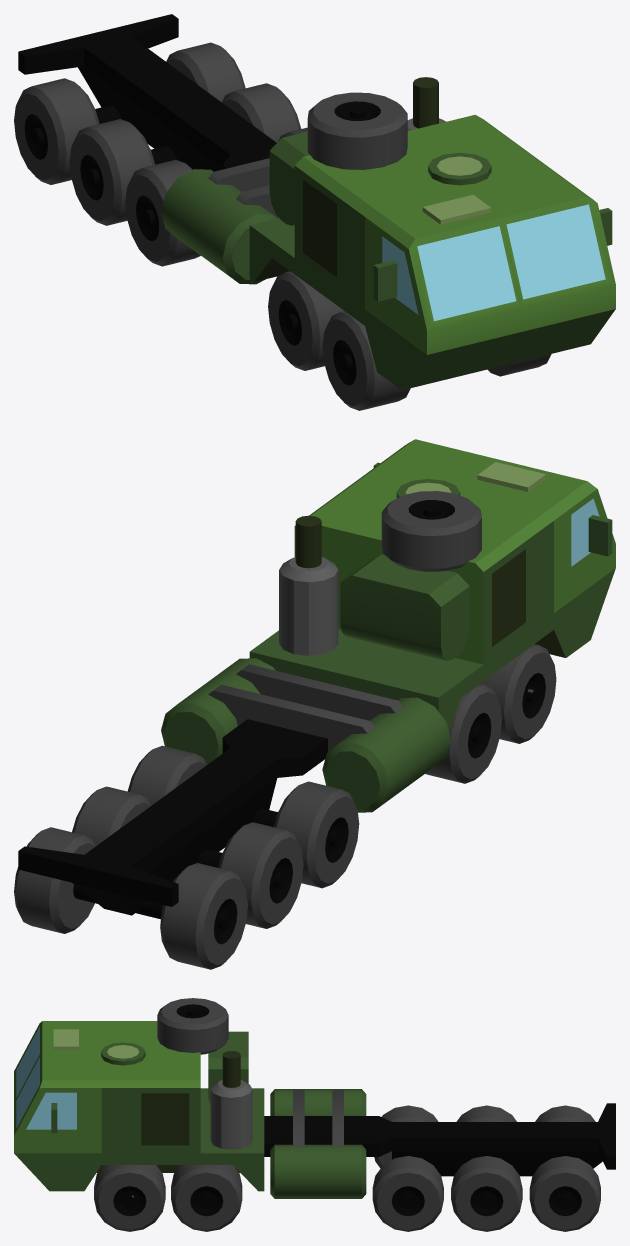
Rendered from Big Truck 2.fbx.
3 views of the same model, one above another, from view 1: azimuth 30°, elevation 25°; view 2: azimuth 150°, elevation 25°; view 3: azimuth 270°, elevation 25° (orthographic). The views are drawn at different scales.
Parts seen in each view (by area): view 1: Cube.499, Cylinder.579, Cube.504, Cylinder.578, Cylinder.582, Cylinder.576, Cylinder.577, Cube.502, Cube.503, Cylinder.575, Cylinder.581, Cube.500 (+1 smaller); view 2: Cube.499, Cylinder.579, Cube.504, Cylinder.578, Cube.502, Cube.503, Cylinder.582, Cylinder.581, Cylinder.576, Cylinder.577, Cube.501, Cube.500 (+1 smaller); view 3: Cube.499, Cylinder.579, Cube.504, Cylinder.578, Cylinder.577, Cylinder.576, Cylinder.582, Cylinder.581, Cube.503, Cube.502, Cylinder.575, Cube.501.
Boxes of the visible parts, <box> form: Cube.499: <box>249,114,615,390</box>; Cylinder.579: <box>14,42,307,266</box>; Cube.504: <box>18,14,276,171</box>; Cylinder.578: <box>161,169,276,284</box>; Cylinder.582: <box>307,92,407,169</box>; Cylinder.576: <box>322,311,551,410</box>; Cylinder.577: <box>268,271,343,370</box>; Cube.502: <box>269,131,309,225</box>; Cube.503: <box>208,158,278,218</box>; Cylinder.575: <box>428,152,491,185</box>; Cylinder.581: <box>407,77,445,130</box>; Cube.500: <box>373,208,612,301</box>; Cube.499: <box>249,439,615,731</box>; Cylinder.579: <box>14,745,359,969</box>; Cube.504: <box>18,719,327,915</box>; Cylinder.578: <box>161,658,450,812</box>; Cube.502: <box>340,554,469,660</box>; Cube.503: <box>208,664,403,751</box>; Cylinder.582: <box>381,491,481,571</box>; Cylinder.581: <box>279,515,338,655</box>; Cylinder.576: <box>480,644,556,743</box>; Cylinder.577: <box>425,684,501,783</box>; Cube.501: <box>477,462,545,491</box>; Cube.500: <box>373,462,612,556</box>; Cube.499: <box>14,1021,264,1191</box>; Cylinder.579: <box>372,1105,600,1231</box>; Cube.504: <box>264,1103,615,1176</box>; Cylinder.578: <box>270,1089,366,1198</box>; Cylinder.577: <box>171,1165,242,1231</box>; Cylinder.576: <box>94,1165,165,1231</box>; Cylinder.582: <box>157,998,228,1054</box>; Cylinder.581: <box>210,1051,252,1149</box>; Cube.503: <box>293,1090,343,1146</box>; Cube.502: <box>208,1031,248,1104</box>; Cylinder.575: <box>101,1042,145,1065</box>; Cube.501: <box>53,1029,78,1049</box>.
Size of the model in its own units: 939 by 964 by 2957.
